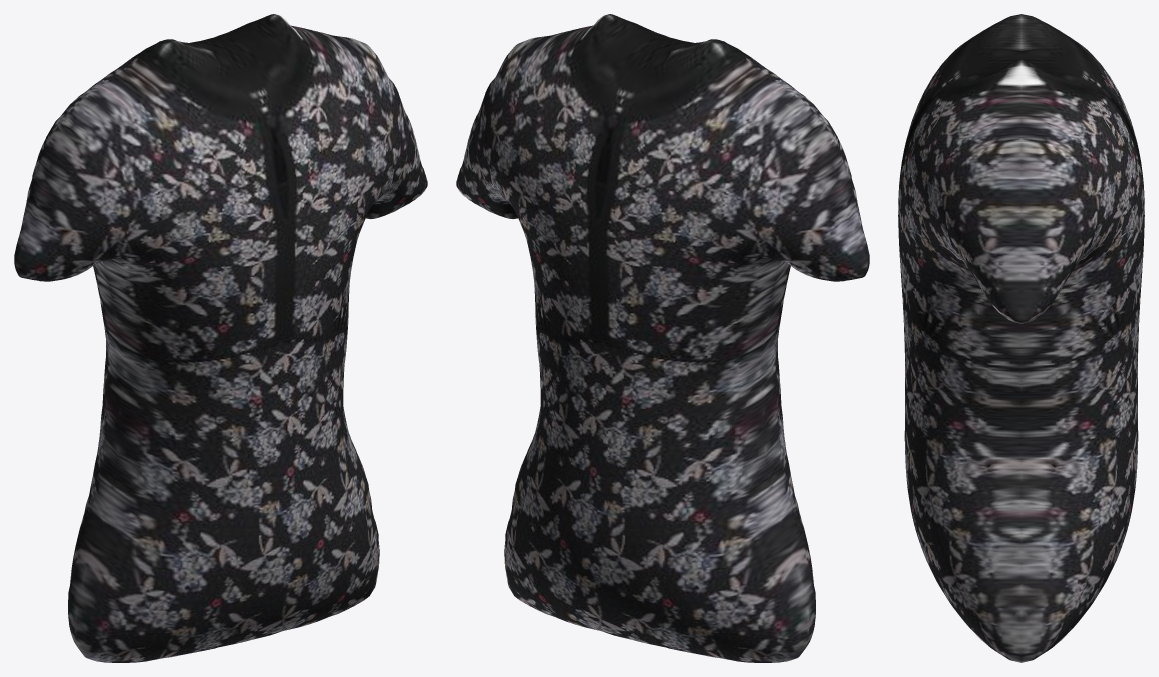
File: 4VI21D029-Q11@12=cloth_front.glb
3 renders of one model, left to right at view 1: azimuth 30°, elevation 25°; view 2: azimuth 150°, elevation 25°; view 3: azimuth 270°, elevation 25°, orthographic. The views are drawn at different scales.
Bounding box in the file's own units: 4.6 × 6.51 × 2.56.
Materials: 1 (1 with a texture image).
